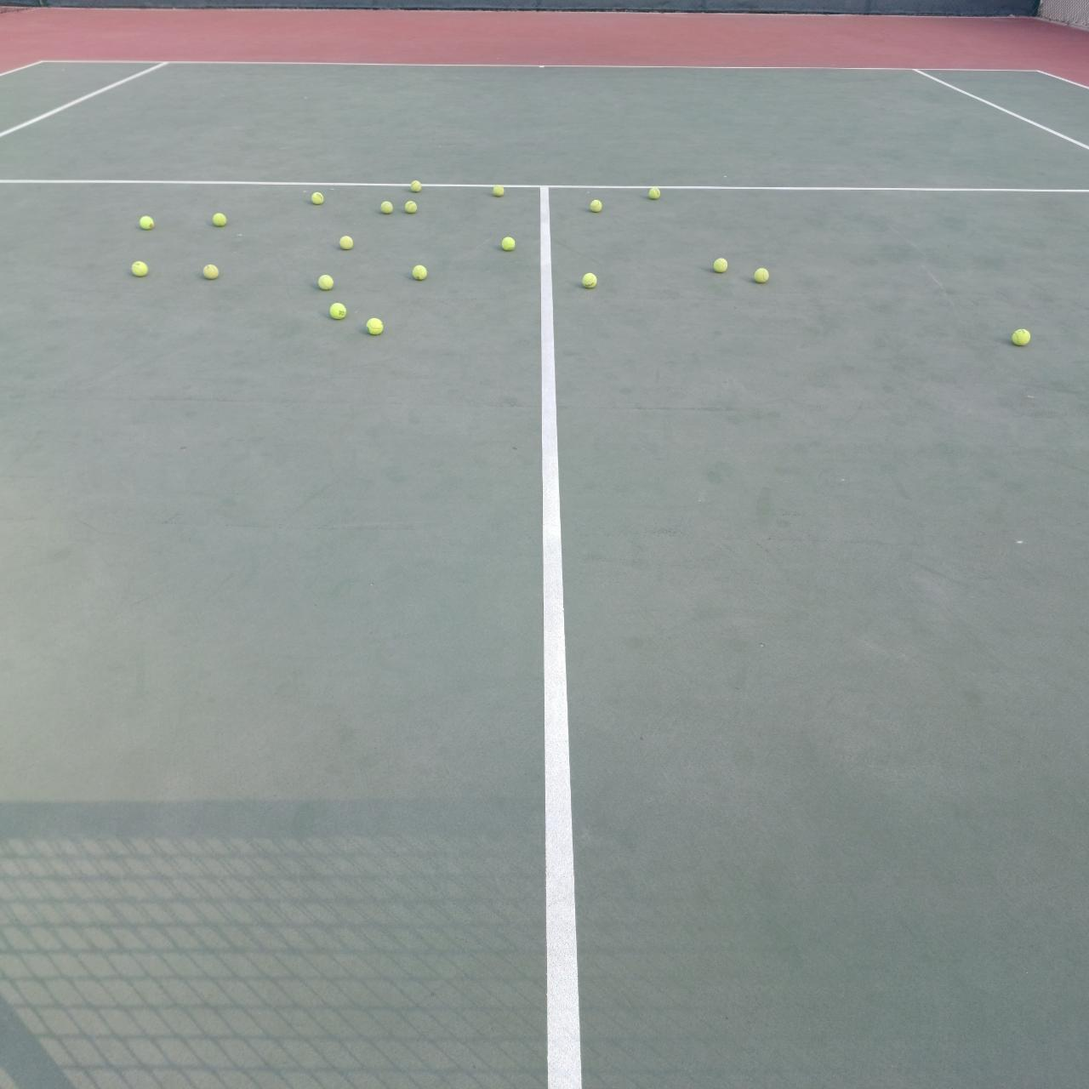tennis-ball: (1010, 326, 1030, 346), (365, 317, 384, 336), (329, 301, 347, 321), (129, 259, 148, 277), (202, 262, 220, 280), (411, 263, 428, 281), (317, 273, 334, 291), (753, 266, 770, 284), (581, 272, 598, 289), (137, 214, 154, 229), (212, 211, 227, 228), (339, 235, 353, 251), (714, 258, 727, 274), (502, 237, 515, 252), (405, 200, 418, 214), (590, 200, 603, 213), (311, 192, 323, 205), (381, 201, 393, 214), (410, 180, 422, 192), (648, 188, 660, 200), (493, 186, 505, 197)
